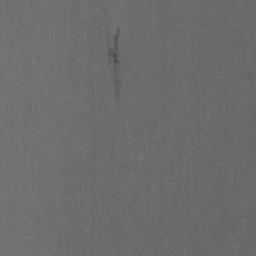Inclusion: (105, 27, 123, 101)
